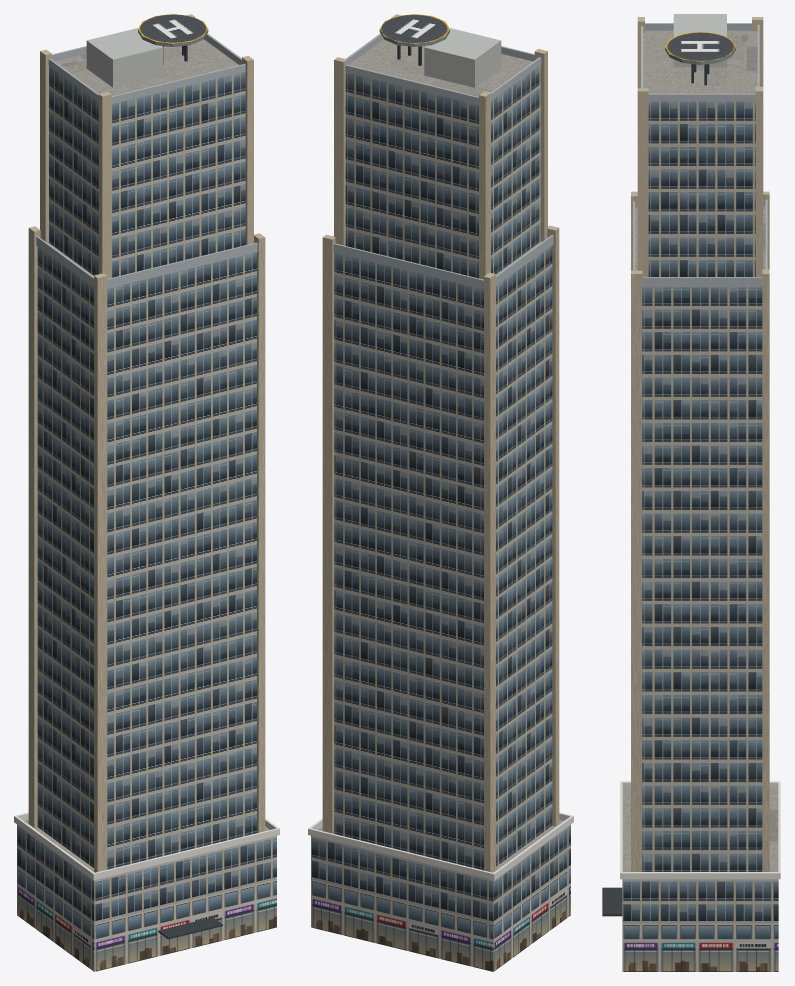
File: OW_CaoOc_VP_KhungDa_152.fbx
3 renders of one model, left to right at view 1: azimuth 30°, elevation 25°; view 2: azimuth 150°, elevation 25°; view 3: azimuth 270°, elevation 25°, orthographic.
Parts seen in each view (by area): view 1: OW_CaoOc_VP_KhungDa_152_LOD0; view 2: OW_CaoOc_VP_KhungDa_152_LOD0; view 3: OW_CaoOc_VP_KhungDa_152_LOD0.
Part boxes in pixels (x1,y1,x2,y2): OW_CaoOc_VP_KhungDa_152_LOD0: (14, 14, 279, 971); OW_CaoOc_VP_KhungDa_152_LOD0: (308, 14, 573, 971); OW_CaoOc_VP_KhungDa_152_LOD0: (602, 14, 780, 971).
Size of what is drawn, in the model's own units: 34.7 by 158 by 28.55.
